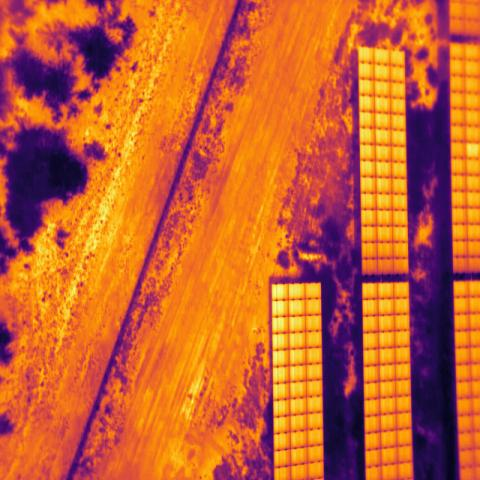fault: (465, 142, 480, 159)
